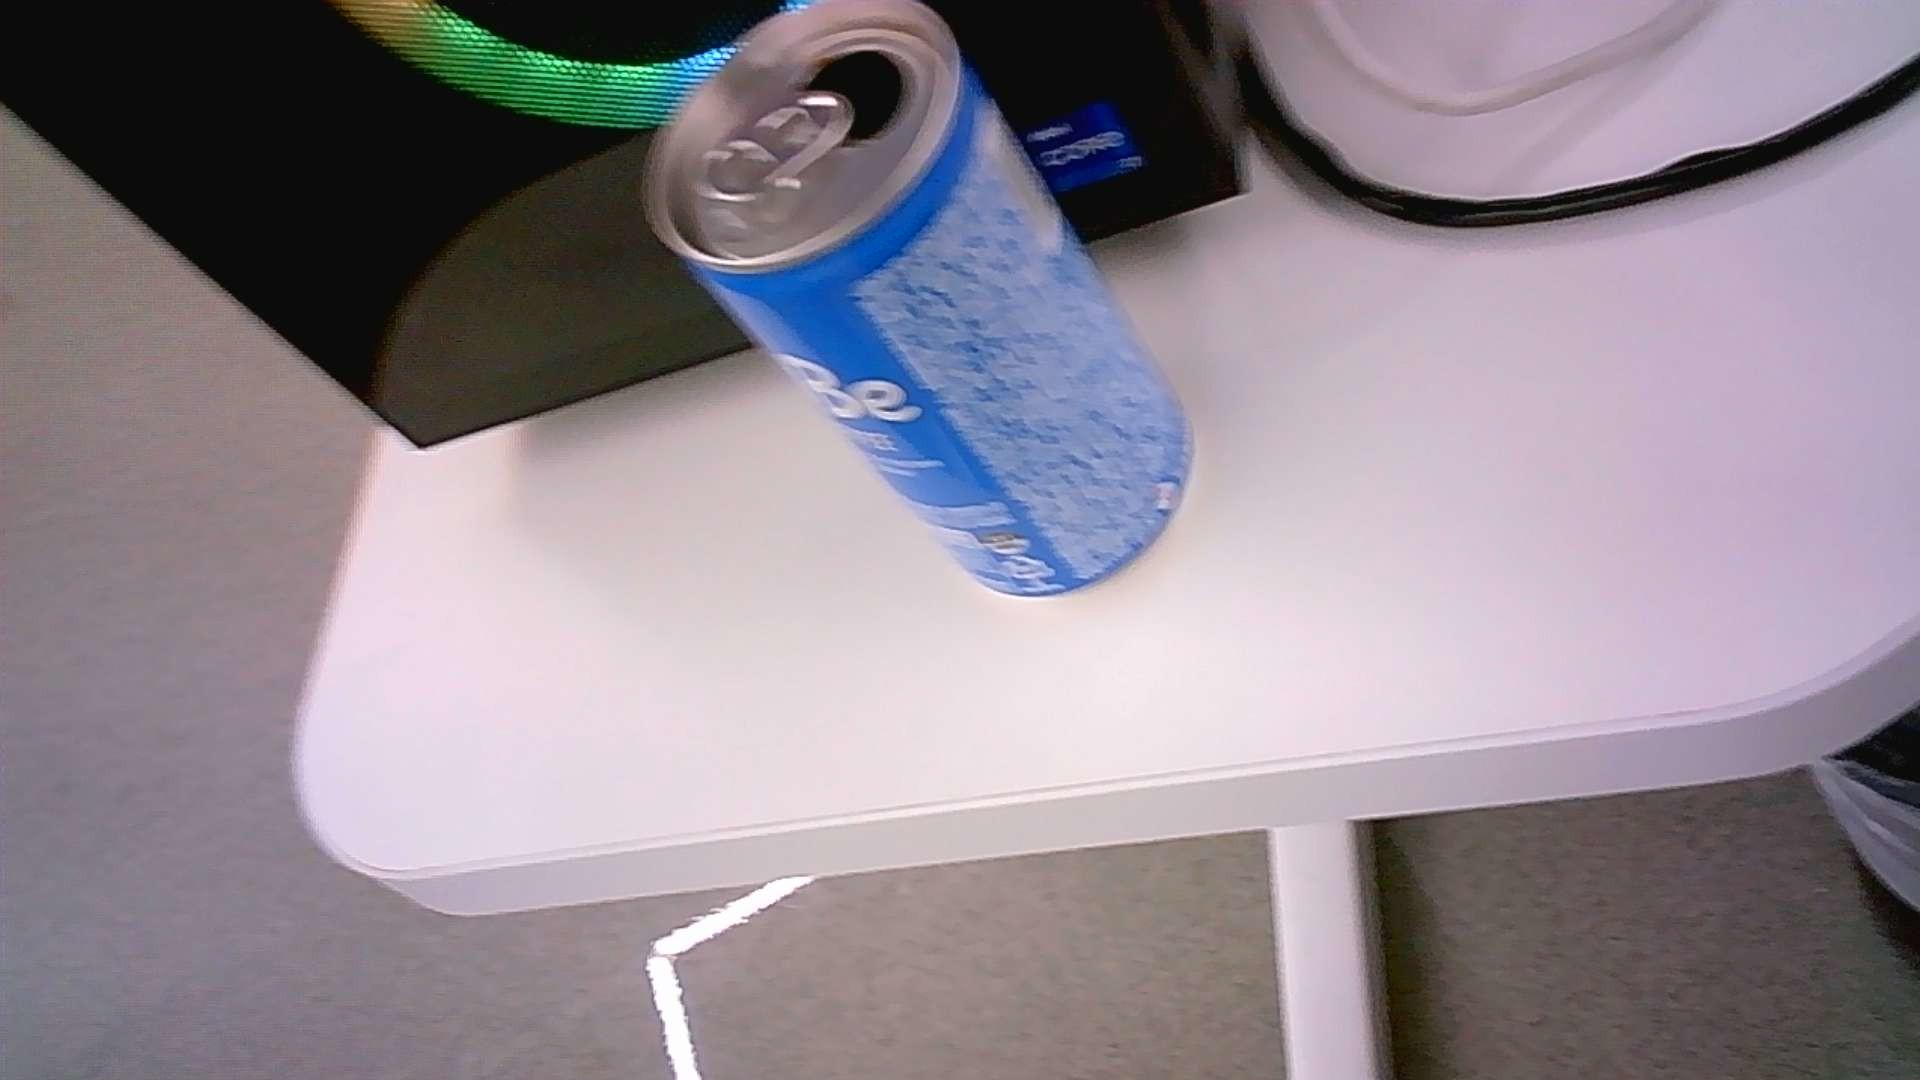letsbe: (641, 0, 1196, 596)
